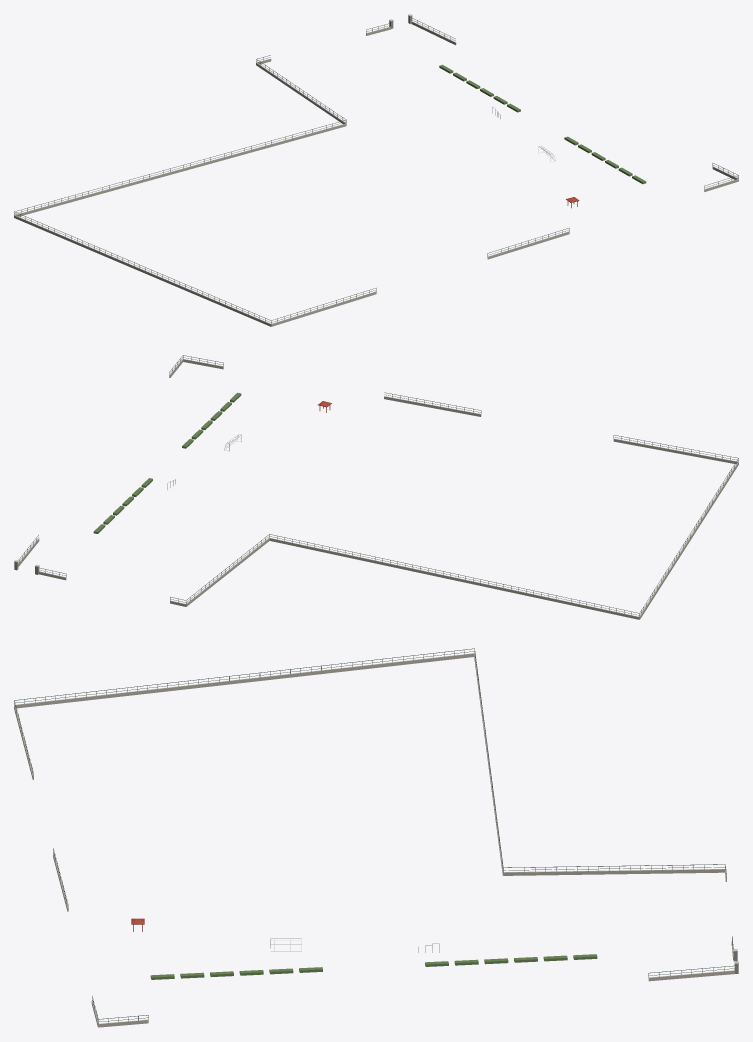
The picture shows the model from 3 angles, top to bottom: view 1: azimuth 30°, elevation 25°; view 2: azimuth 150°, elevation 25°; view 3: azimuth 270°, elevation 25°; orthographic projection. The views are drawn at different scales.
Visible parts, largest first — view 1: site-wall-concrete, site-fence, site-entrance-hedge; view 2: site-wall-concrete, site-fence, site-entrance-hedge; view 3: site-wall-concrete, site-fence, site-entrance-hedge.
Boxes of the visible parts, bbox=[...] form: site-wall-concrete: bbox=[14, 21, 738, 326]; site-fence: bbox=[14, 18, 738, 323]; site-entrance-hedge: bbox=[439, 64, 646, 184]; site-wall-concrete: bbox=[18, 359, 738, 619]; site-fence: bbox=[18, 355, 738, 616]; site-entrance-hedge: bbox=[93, 392, 241, 533]; site-wall-concrete: bbox=[14, 653, 734, 1027]; site-fence: bbox=[14, 648, 734, 1023]; site-entrance-hedge: bbox=[150, 954, 597, 979].
Size of the model in its own units: 206 by 3.2 by 170.
